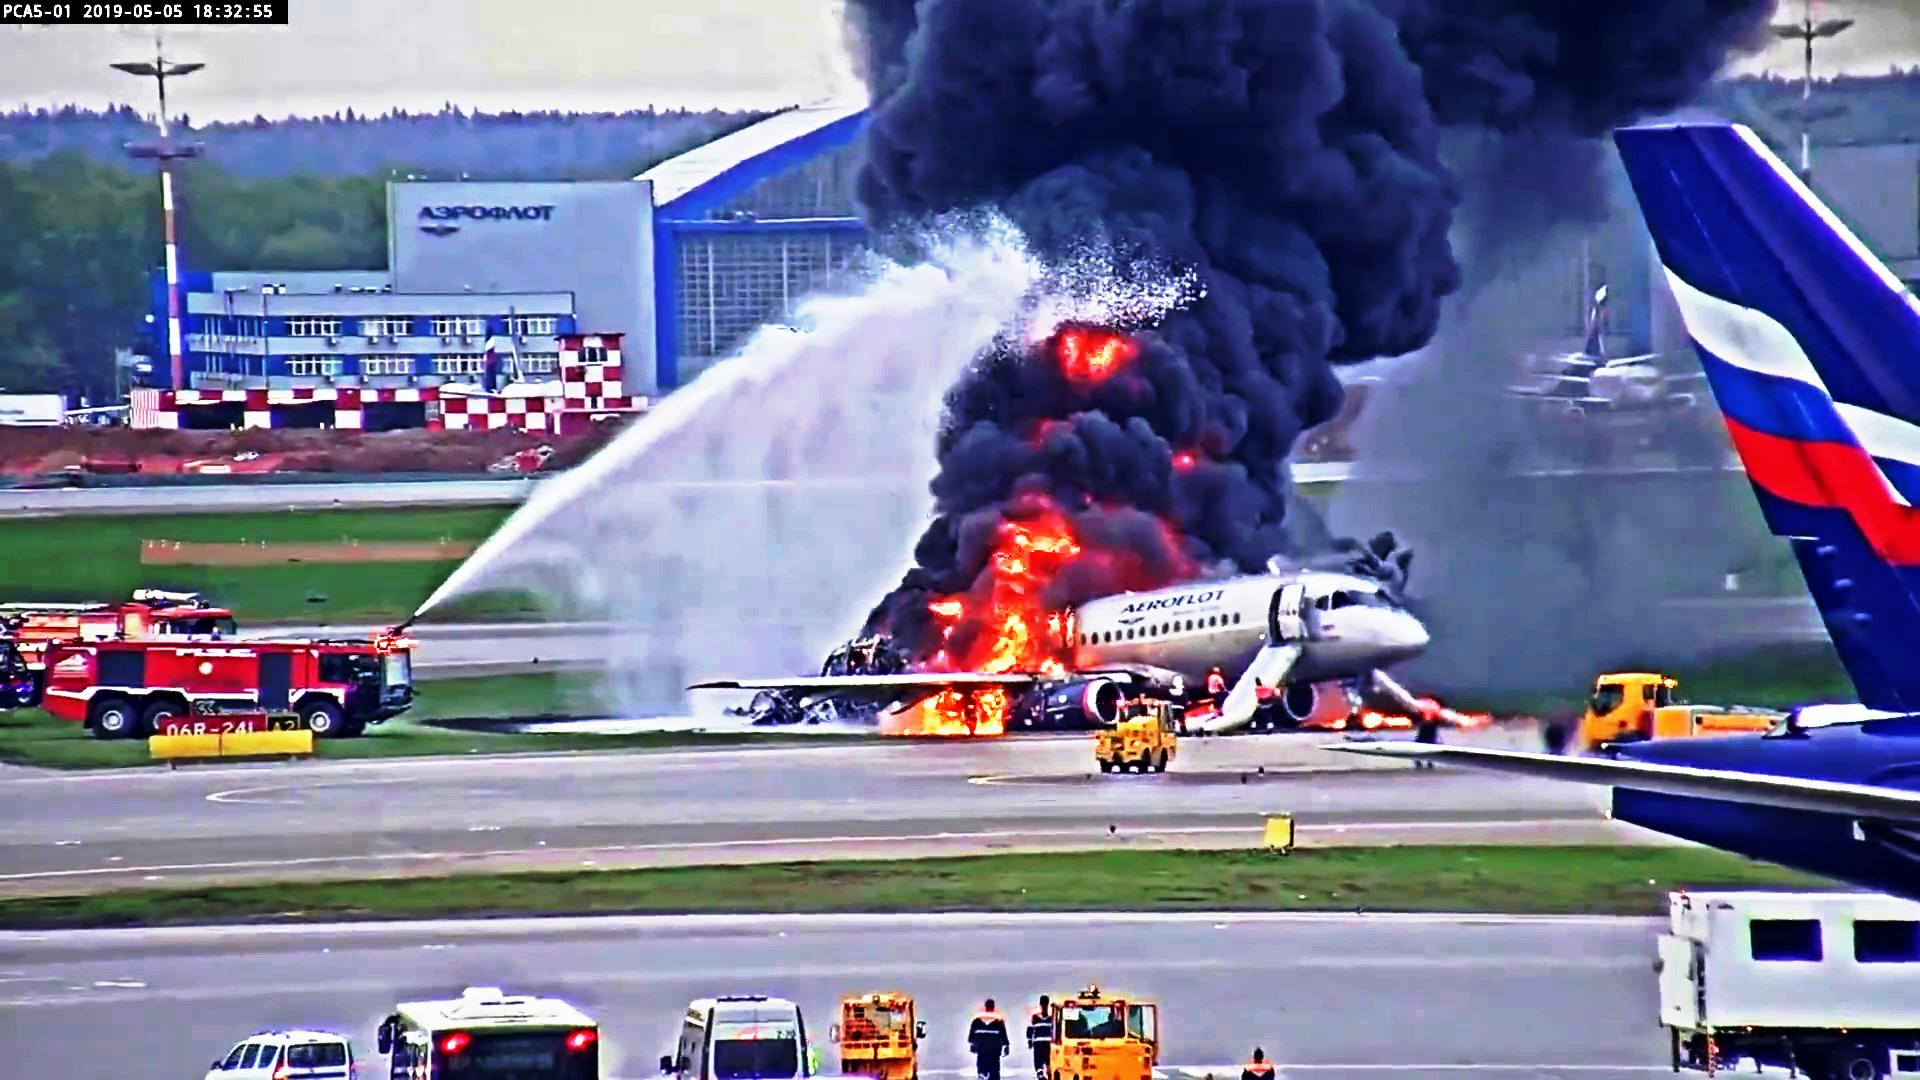fire: (988, 558, 1051, 665), (935, 696, 1000, 733)
smoke: (976, 13, 1361, 477)
